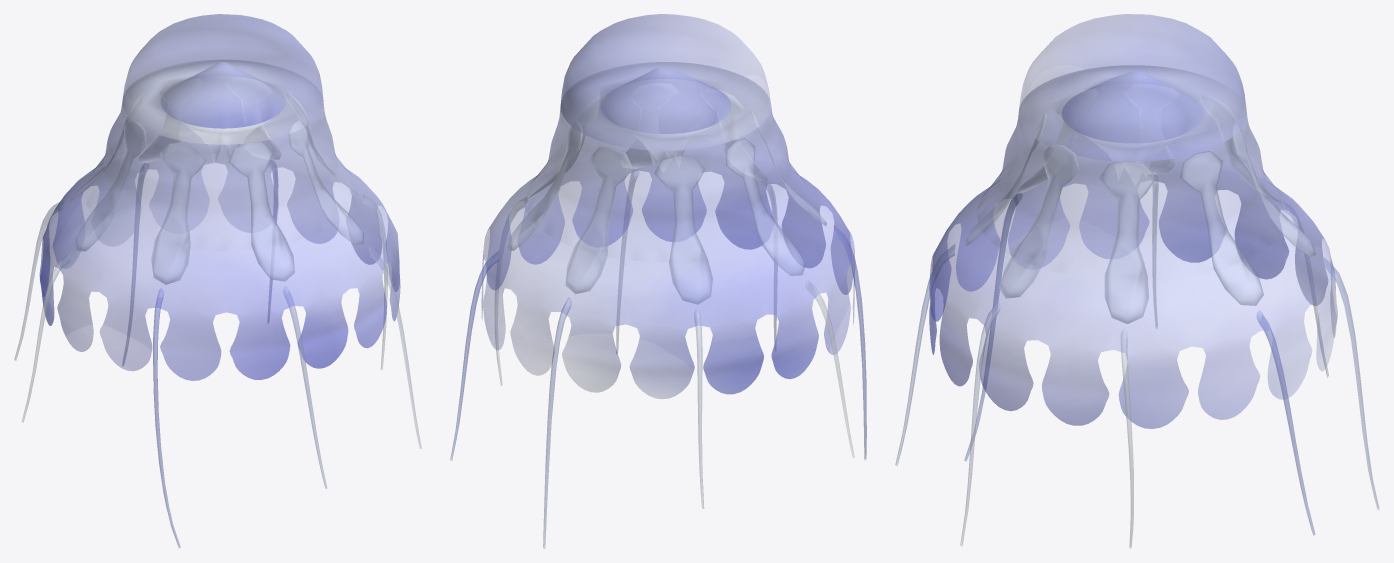
Rendered from Coronate Jellyfish.glb.
3 renders of one model, left to right at view 1: azimuth 30°, elevation 25°; view 2: azimuth 150°, elevation 25°; view 3: azimuth 270°, elevation 25°, orthographic. The views are drawn at different scales.
Parts seen in each view (by area): view 1: Tentacles, Tentacles. body; view 2: Tentacles, Tentacles. body; view 3: Tentacles, Tentacles. body.
Part boxes in pixels (x1,y1,x2,y2): Tentacles: (39, 14, 400, 380); Tentacles. body: (14, 160, 421, 548); Tentacles: (481, 14, 854, 398); Tentacles. body: (450, 169, 866, 548); Tentacles: (929, 14, 1337, 428); Tentacles. body: (895, 174, 1379, 548).
Size of the model in its own units: 7.13 by 8.44 by 7.43.
Materials: 1 (1 with a texture image).
